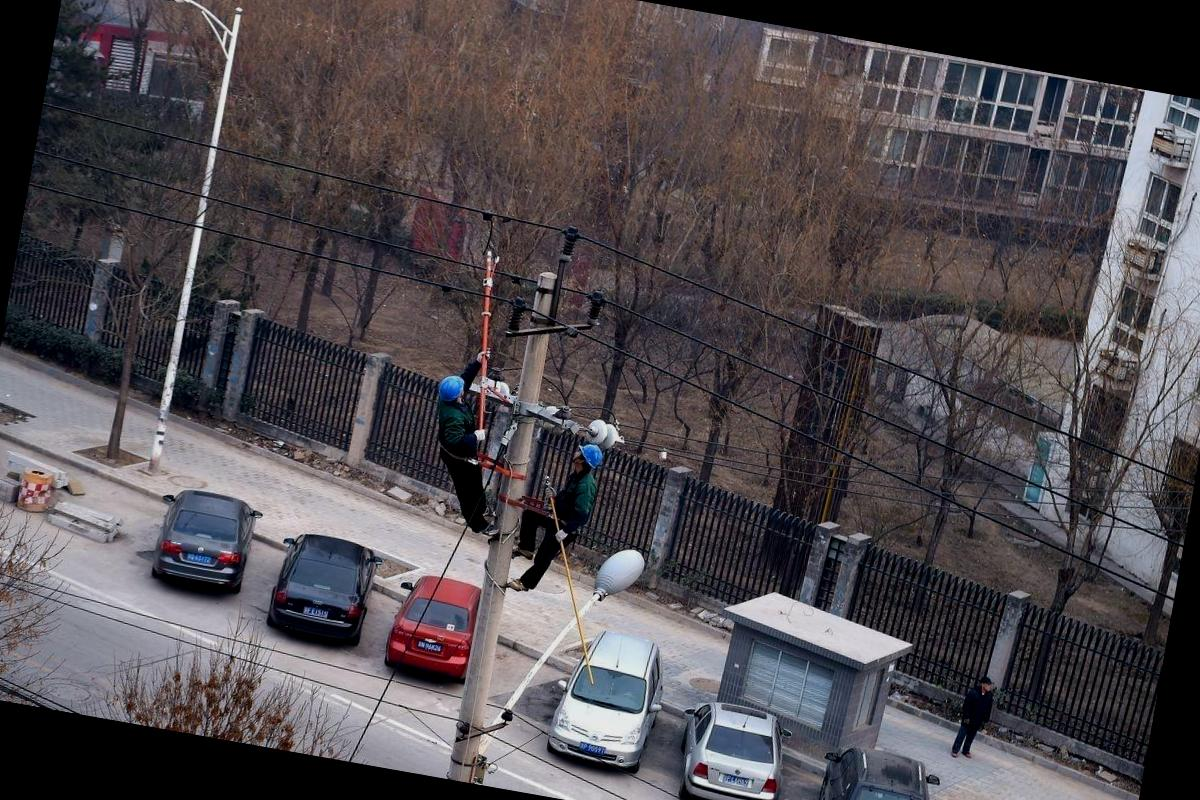helmet: (434, 370, 475, 412), (573, 436, 608, 472)
person: (409, 362, 521, 540), (516, 426, 614, 600)
